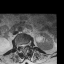CCS_normal: (22, 42, 24, 50)
LFS_stenosis: (26, 42, 28, 47)
LLS_normal: (24, 42, 26, 48)
RFS_normal: (19, 42, 20, 48)
RLS_normal: (20, 43, 22, 49)
